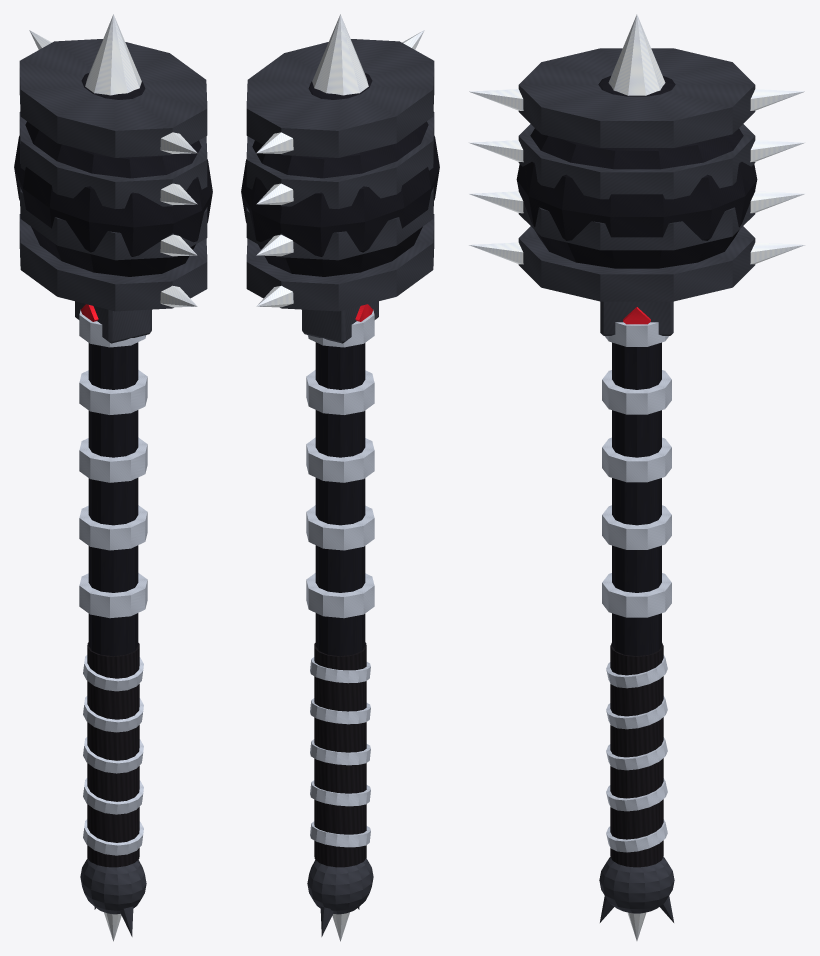
The model's file is AbyssVertebra.fbx.
3 renders of one model, left to right at view 1: azimuth 30°, elevation 25°; view 2: azimuth 150°, elevation 25°; view 3: azimuth 270°, elevation 25°, orthographic.
Visible parts, largest first — view 1: AbyssVertebra; view 2: AbyssVertebra; view 3: AbyssVertebra.
Boxes of the visible parts, <box> form: AbyssVertebra: <box>14,14,212,941</box>; AbyssVertebra: <box>241,14,439,941</box>; AbyssVertebra: <box>469,14,804,940</box>.
Bounding box in the file's own units: 107 × 617 × 203.
1 material, 1 textured.
